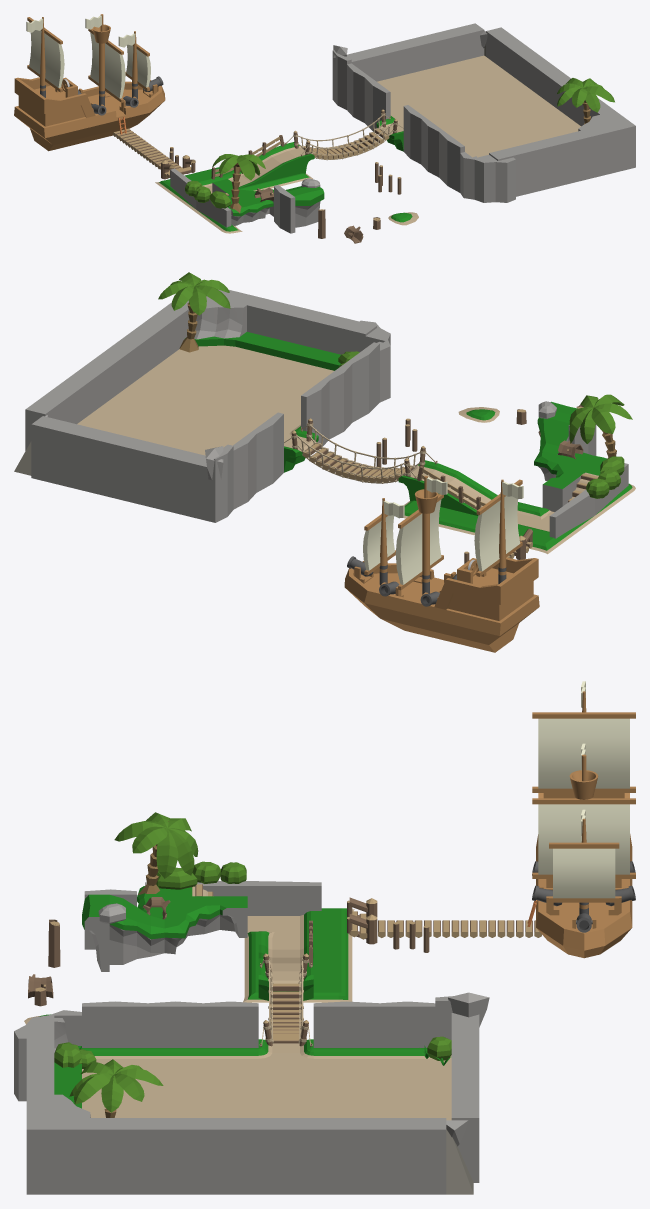
Rendered from PirateShipScene.fbx.
3 renders of one model, top to bottom at view 1: azimuth 30°, elevation 25°; view 2: azimuth 150°, elevation 25°; view 3: azimuth 270°, elevation 25°, orthographic. The views are drawn at different scales.
Visible parts, largest first — view 1: block (×4), watercraftPack_007, Cliff_Mid_Straight (×8), Cliff_Mid_Corner_Outer_Lg, Prop_Bridge_Rope_End (×2), Path_Hill_Gentle_Side (×2), Cliff_Top_Straight (×2), Prop_Tree_Palm_3, Prop_Tree_Palm_1, Path_Side (×2); view 2: block (×4), watercraftPack_007, Cliff_Mid_Straight (×7), Prop_Bridge_Rope_End (×2), Grass_Flat (×2), Prop_Tree_Palm_3, Prop_Tree_Palm_1, Cliff_Base_Waterfall, Path_Hill_Gentle_Side (×2), Path_Side (×2), Cliff_Top_Waterfall, Cliff_Mid_Corner_Outer_Lg (+2 smaller); view 3: block (×4), watercraftPack_007, Cliff_Mid_Straight (×6), Path_Side (×4), Prop_Bridge_Rope_End (×2), Prop_Tree_Palm_1, Grass_Flat (×2), Cliff_Top_Waterfall, Prop_Tree_Palm_3, Cliff_Mid_Corner_Outer_Lg, Cliff_Top_Corner_Inner_Lg, Cliff_Top_Straight (+4 smaller).
Part boxes in pixels (<box>): block (×4): <box>347,23,635,196</box>; watercraftPack_007: <box>14,14,165,151</box>; Cliff_Mid_Straight (×8): <box>170,50,464,233</box>; Cliff_Mid_Corner_Outer_Lg: <box>460,152,515,202</box>; Prop_Bridge_Rope_End (×2): <box>284,109,403,173</box>; Path_Hill_Gentle_Side (×2): <box>222,145,300,188</box>; Cliff_Top_Straight (×2): <box>241,186,324,227</box>; Prop_Tree_Palm_3: <box>557,78,614,124</box>; Prop_Tree_Palm_1: <box>212,154,265,213</box>; Path_Side (×2): <box>160,173,304,231</box>; block (×4): <box>25,289,376,521</box>; watercraftPack_007: <box>344,476,539,652</box>; Cliff_Mid_Straight (×7): <box>209,342,628,538</box>; Prop_Bridge_Rope_End (×2): <box>284,418,438,501</box>; Grass_Flat (×2): <box>235,332,551,542</box>; Prop_Tree_Palm_3: <box>158,272,230,352</box>; Prop_Tree_Palm_1: <box>569,394,632,458</box>; Cliff_Base_Waterfall: <box>185,296,246,346</box>; Path_Hill_Gentle_Side (×2): <box>416,463,497,515</box>; Path_Side (×2): <box>403,485,633,550</box>; Cliff_Top_Waterfall: <box>537,411,570,454</box>; Cliff_Mid_Corner_Outer_Lg: <box>359,320,390,402</box>; block (×4): <box>26,1013,479,1194</box>; watercraftPack_007: <box>532,681,635,958</box>; Cliff_Mid_Straight (×6): <box>82,881,435,1047</box>; Path_Side (×4): <box>81,909,450,1058</box>; Prop_Bridge_Rope_End (×2): <box>258,953,313,1052</box>; Prop_Tree_Palm_1: <box>114,812,198,894</box>; Grass_Flat (×2): <box>54,909,338,1108</box>; Cliff_Top_Waterfall: <box>109,895,164,964</box>; Prop_Tree_Palm_3: <box>69,1059,163,1117</box>; Cliff_Mid_Corner_Outer_Lg: <box>14,1010,81,1101</box>; Cliff_Top_Corner_Inner_Lg: <box>164,896,219,947</box>; Cliff_Top_Straight: <box>82,894,109,971</box>.
Size of what is drawn, in the model's own units: 280 by 81.07 by 225.
1 material, 1 textured.
